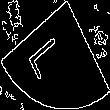L_NE: (33, 28, 77, 83)
